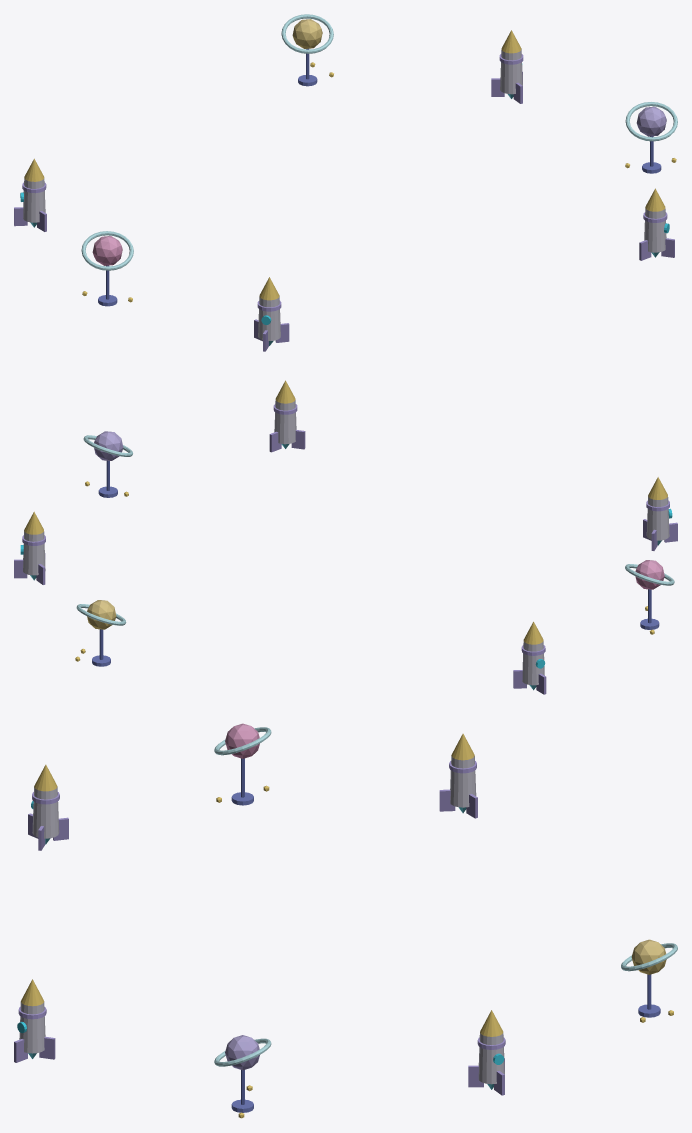
The model's file is goo_jar_props@space.fbx.
The picture shows the model from 3 angles, top to bottom: view 1: azimuth 30°, elevation 25°; view 2: azimuth 150°, elevation 25°; view 3: azimuth 270°, elevation 25°; orthographic projection. The views are drawn at different scales.
Parts seen in each view (by area): view 1: goo_jar_props; view 2: goo_jar_props; view 3: goo_jar_props.
Part boxes in pixels (<box>): goo_jar_props: <box>14,14,677,351</box>; goo_jar_props: <box>14,380,677,694</box>; goo_jar_props: <box>14,723,677,1118</box>.
Bounding box in the file's own units: 70.64 × 7.95 × 59.42.
